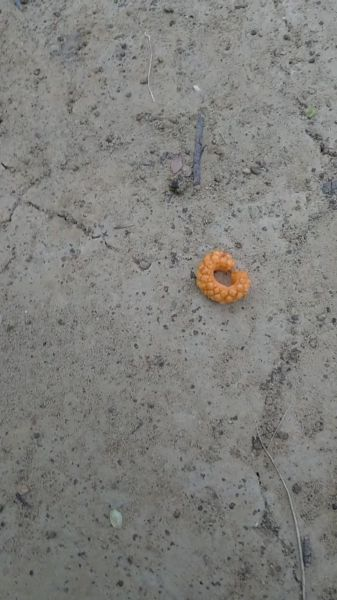eggs: (192, 240, 260, 316)
